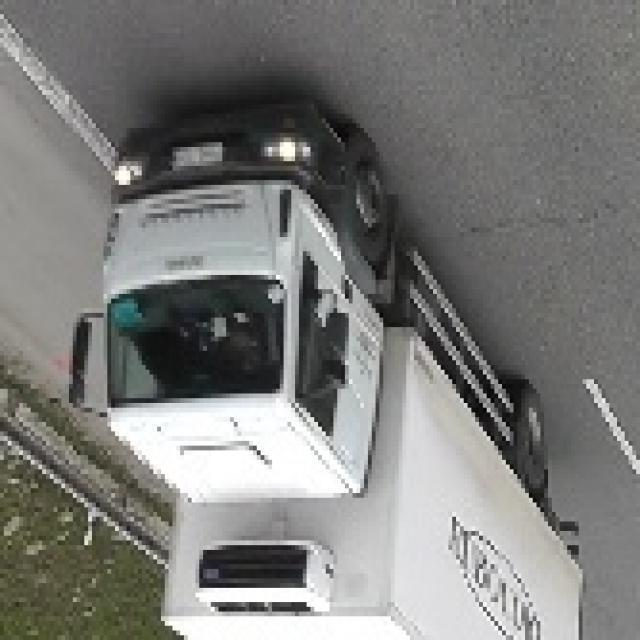Truck: (73, 100, 591, 640)
